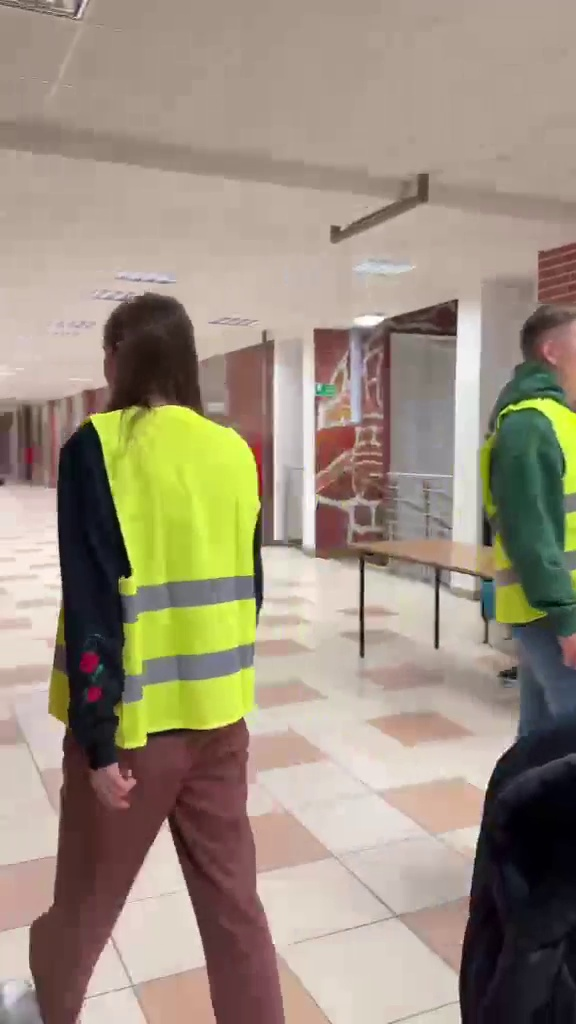vest: (31, 290, 333, 1009), (475, 294, 576, 709)
